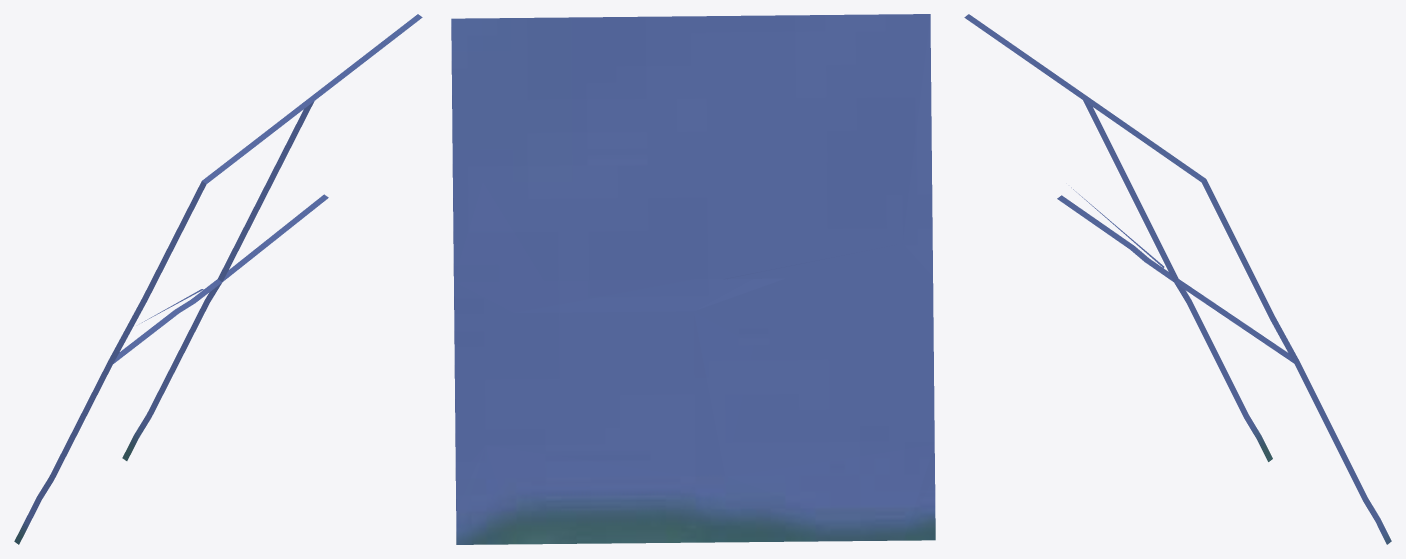
The picture shows the model from 3 angles, left to right: view 1: azimuth 30°, elevation 25°; view 2: azimuth 150°, elevation 25°; view 3: azimuth 270°, elevation 25°; orthographic projection. The views are drawn at different scales.
Bounding box in the file's own units: 4917 × 4422 × 4155.
Materials: 1 (1 with a texture image).
